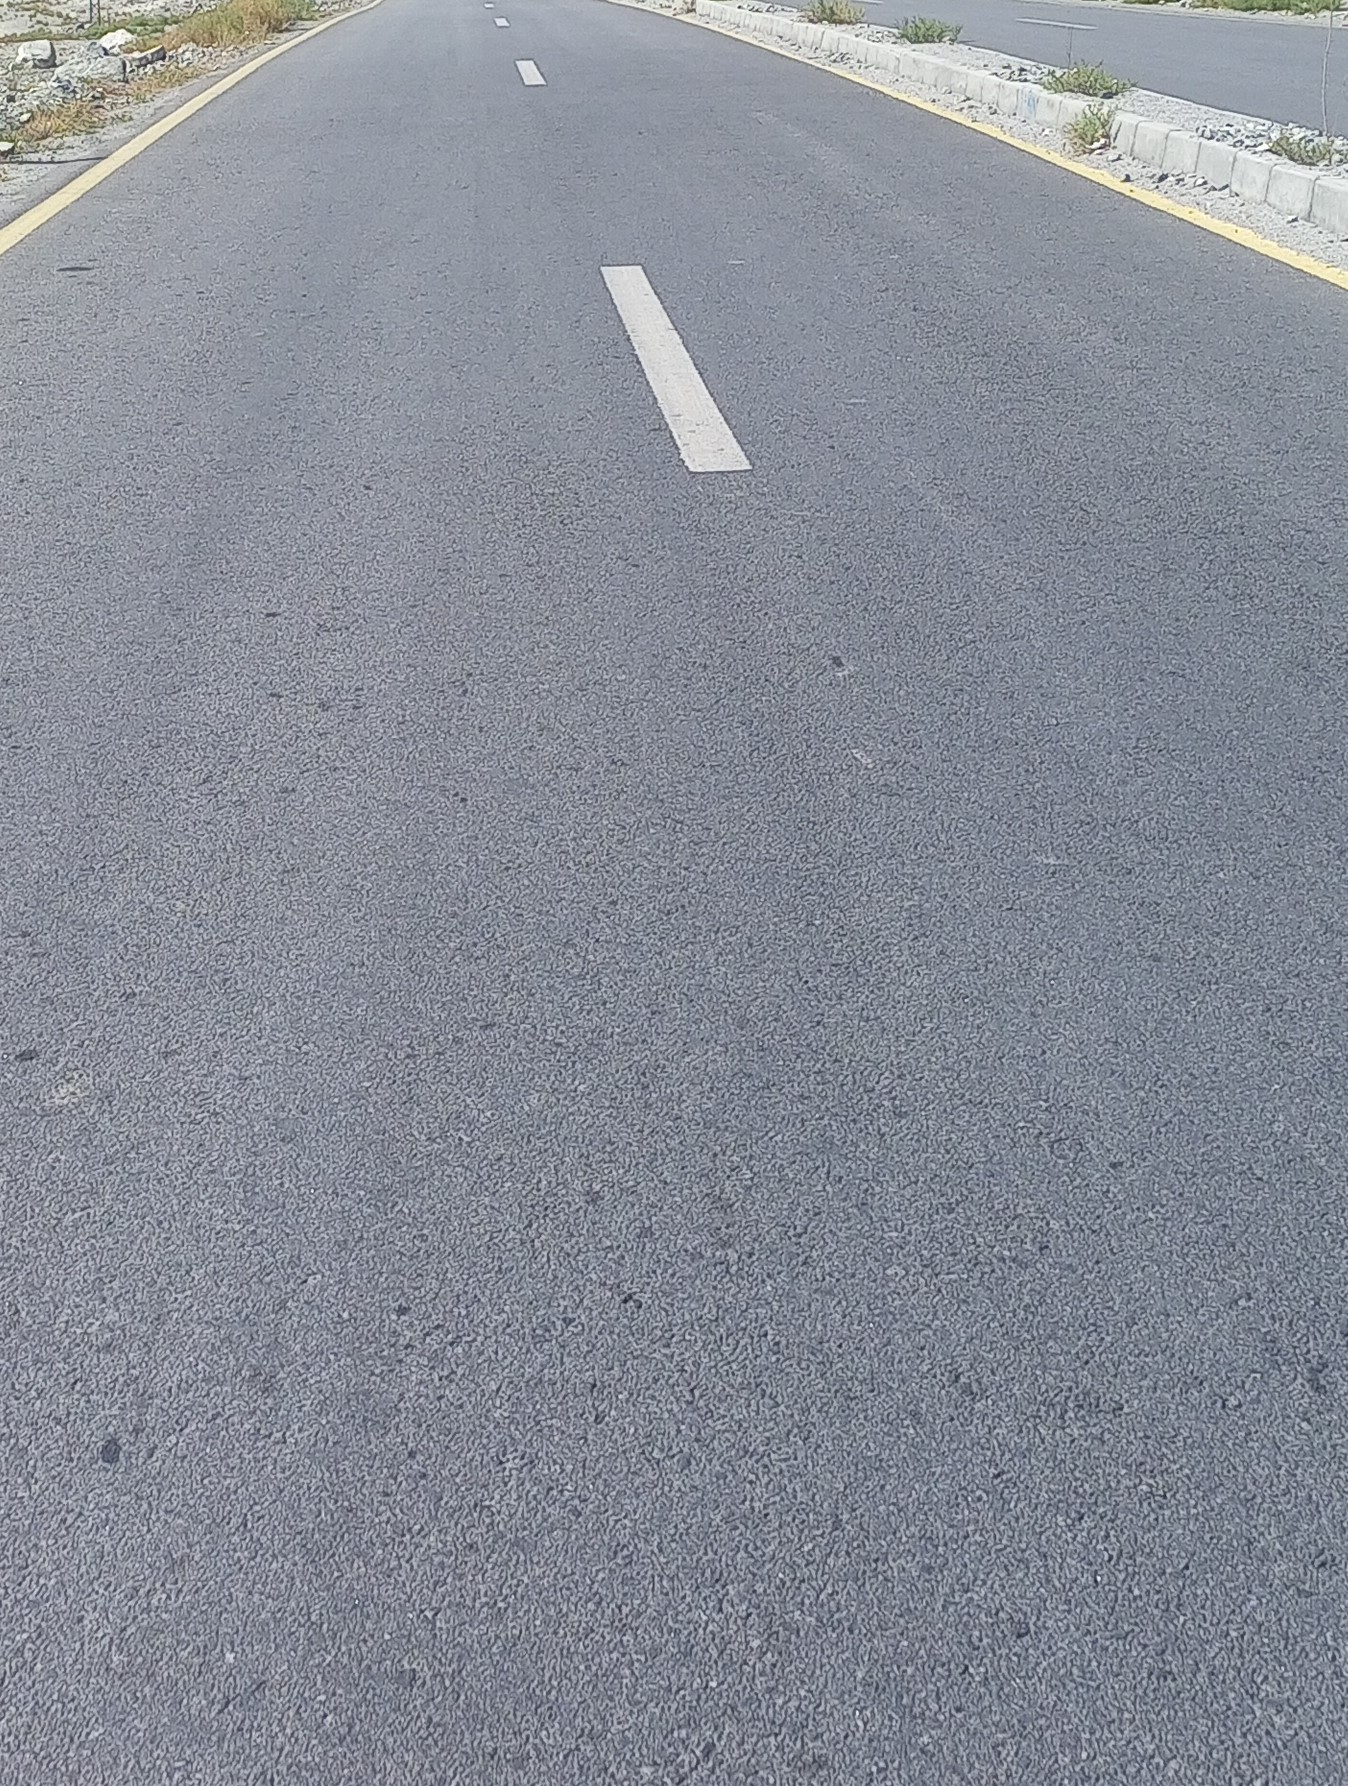straightRoad: (110, 8, 1347, 1370)
